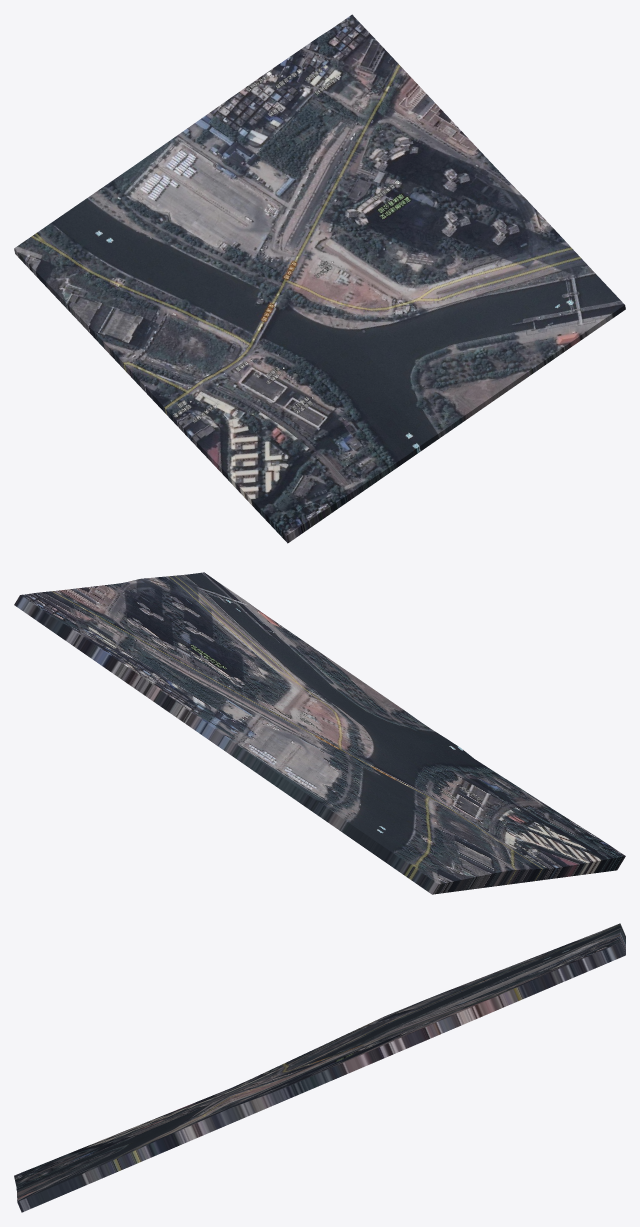
3 renders of one model, top to bottom at view 1: azimuth 30°, elevation 25°; view 2: azimuth 150°, elevation 25°; view 3: azimuth 270°, elevation 25°, orthographic. The views are drawn at different scales.
Parts seen in each view (by area): view 1: 0_18_2; view 2: 0_18_2; view 3: 0_18_2.
Boxes of the visible parts, <box> form: 0_18_2: <box>14,14,625,543</box>; 0_18_2: <box>14,572,625,894</box>; 0_18_2: <box>14,923,625,1212</box>.
Bounding box in the file's own units: 597 × 438 × 549.
1 material, 1 textured.
